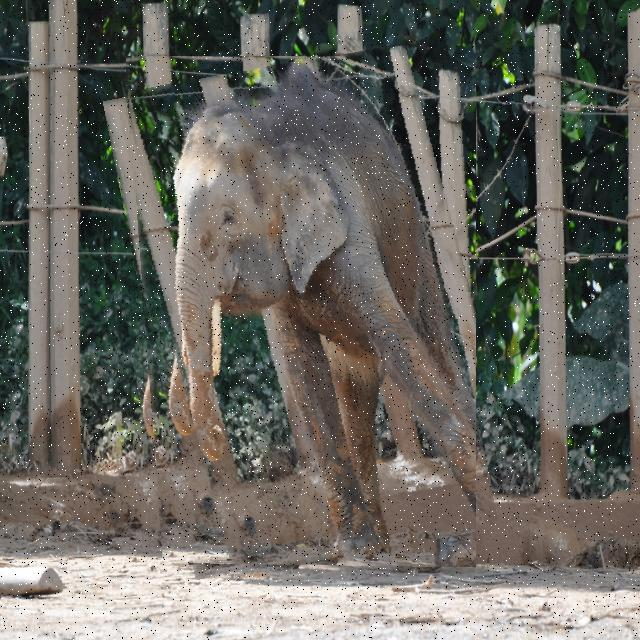elephant: (125, 56, 476, 568)
